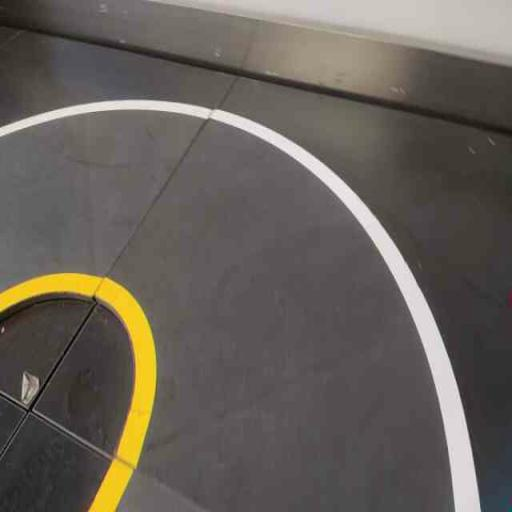left: (30, 71, 499, 511)
